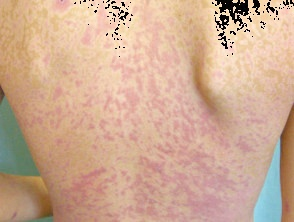SJS-TEN: (34, 0, 276, 222)
